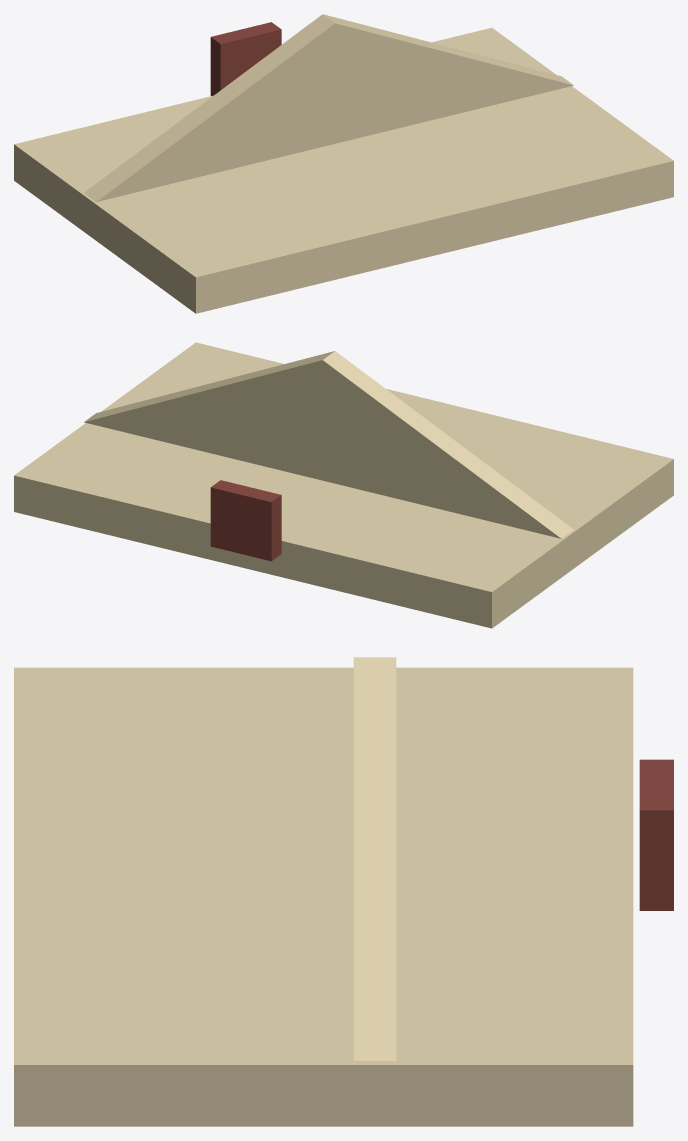
The model's file is VIC_L02_LETTER_Roblox.fbx.
3 views of the same model, one above another, from view 1: azimuth 30°, elevation 25°; view 2: azimuth 150°, elevation 25°; view 3: azimuth 270°, elevation 25° (orthographic). The views are drawn at different scales.
Visible parts, largest first — view 1: VIC_L02_LETTER__Paper, VIC_L02_LETTER__Oxblood; view 2: VIC_L02_LETTER__Paper, VIC_L02_LETTER__Oxblood; view 3: VIC_L02_LETTER__Paper, VIC_L02_LETTER__Oxblood.
Part boxes in pixels (x1,y1,x2,y2): VIC_L02_LETTER__Paper: (14, 14, 673, 313); VIC_L02_LETTER__Oxblood: (210, 22, 281, 95); VIC_L02_LETTER__Paper: (14, 342, 673, 628); VIC_L02_LETTER__Oxblood: (210, 480, 281, 561); VIC_L02_LETTER__Paper: (14, 657, 633, 1126); VIC_L02_LETTER__Oxblood: (639, 759, 673, 910).
Size of the model in its own units: 2.2 by 0.7 by 1.55.
